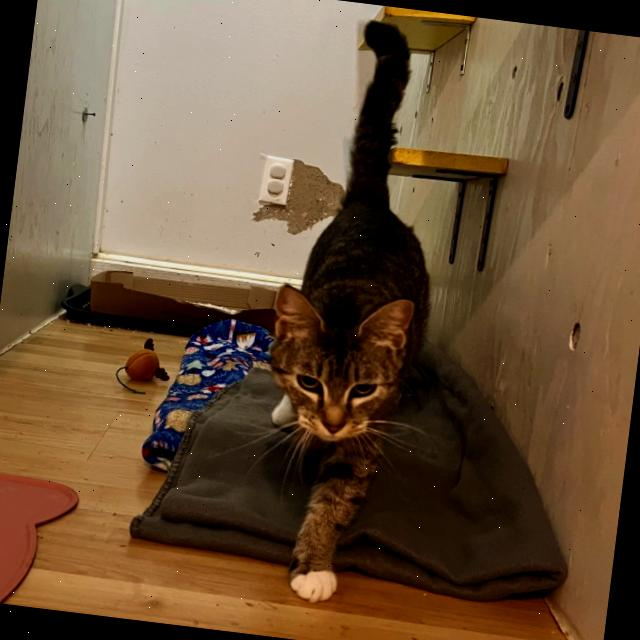american_shorthair_cat: (255, 273, 424, 457)
